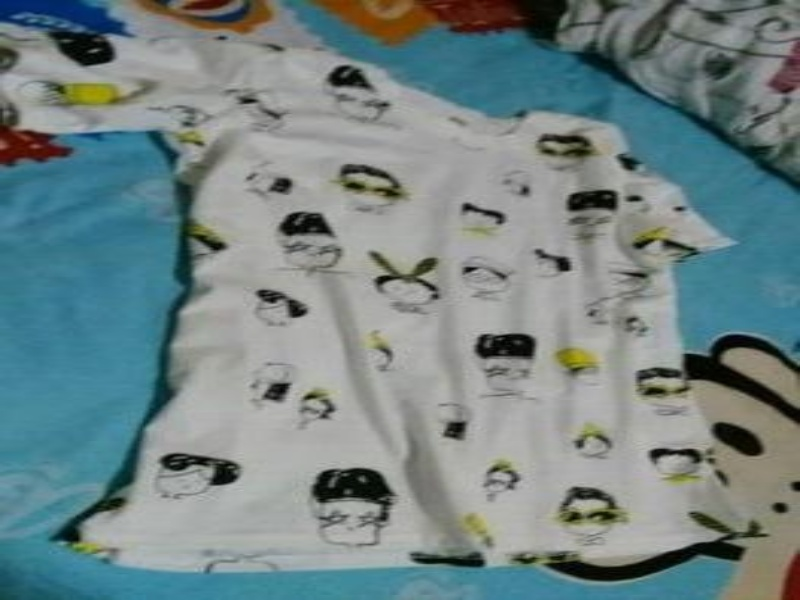short_sleeved_dress: (0, 23, 773, 576)
